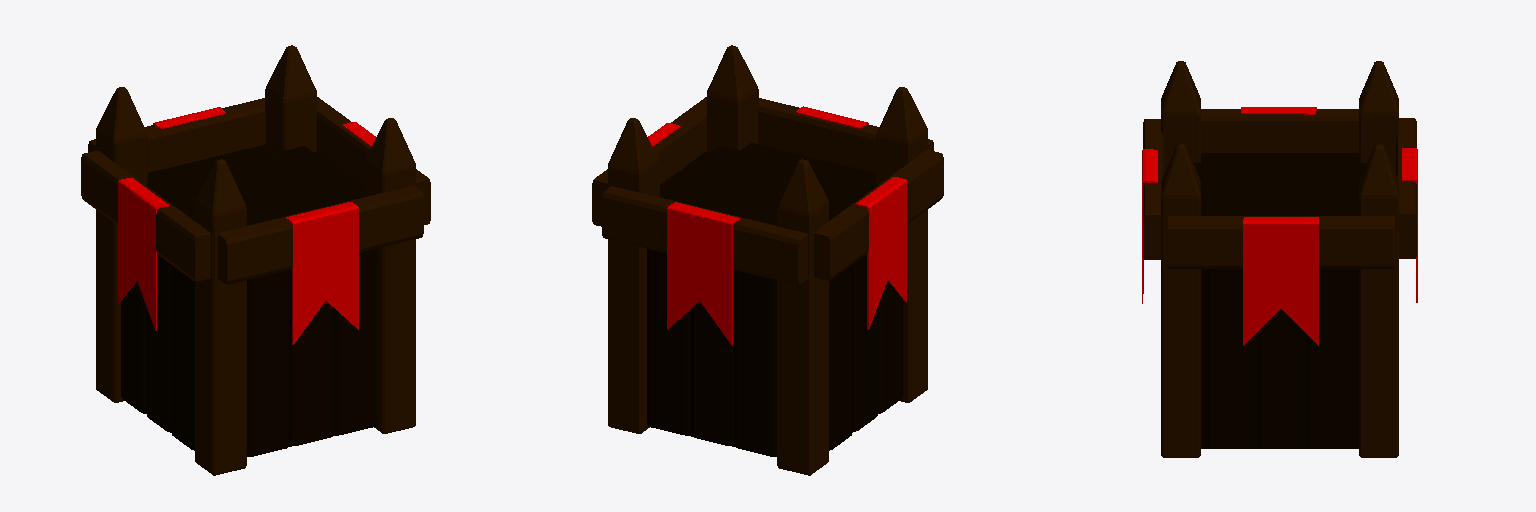
The model's file is ArcherTower_Level1_RedTeam.obj.
3 views of the same model, side by side, from view 1: azimuth 30°, elevation 25°; view 2: azimuth 150°, elevation 25°; view 3: azimuth 270°, elevation 25° (orthographic).
Visible parts, largest first — view 1: ArcherTower_Level1_RedTeam_Cube.006; view 2: ArcherTower_Level1_RedTeam_Cube.006; view 3: ArcherTower_Level1_RedTeam_Cube.006.
Part boxes in pixels (left/top/right/bottom): ArcherTower_Level1_RedTeam_Cube.006: left=81, top=45, right=430, bottom=475; ArcherTower_Level1_RedTeam_Cube.006: left=592, top=45, right=943, bottom=475; ArcherTower_Level1_RedTeam_Cube.006: left=1142, top=61, right=1417, bottom=457.
Bounding box in the file's own units: 13.97 × 17.01 × 13.97.